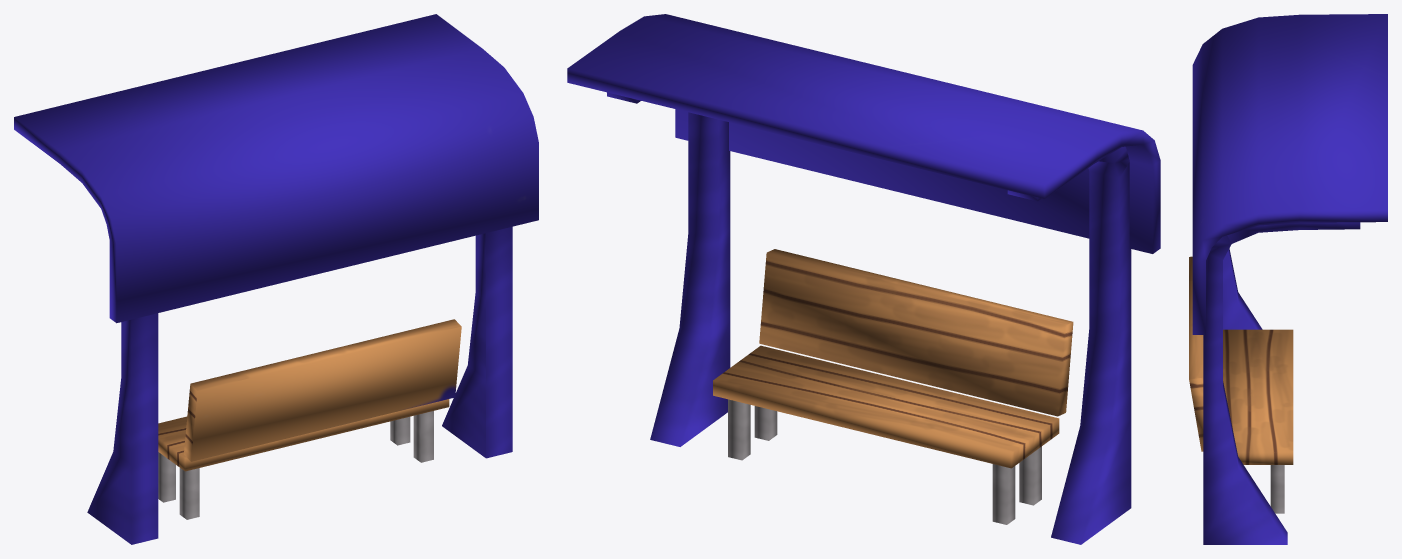
The model's file is Ponto.glb.
The picture shows the model from 3 angles, left to right: view 1: azimuth 30°, elevation 25°; view 2: azimuth 150°, elevation 25°; view 3: azimuth 270°, elevation 25°; orthographic projection. The views are drawn at different scales.
Parts seen in each view (by area): view 1: Cube; view 2: Cube; view 3: Cube.
Part boxes in pixels (x1,y1,x2,y2): Cube: (14, 14, 538, 544); Cube: (567, 14, 1160, 544); Cube: (1189, 14, 1387, 544).
Bounding box in the file's own units: 7.67 × 6.28 × 3.29.
Materials: 1 (1 with a texture image).
